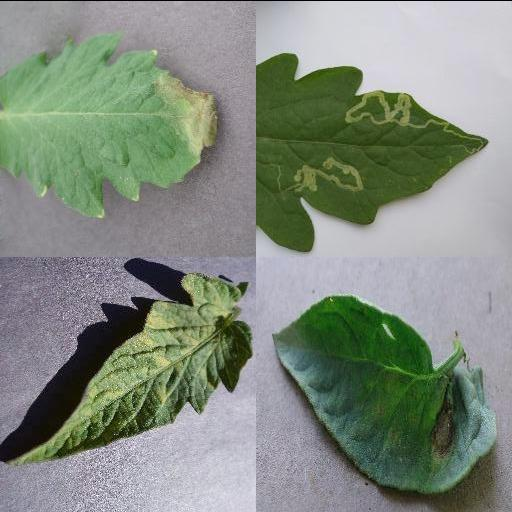Early Blight: (271, 296, 497, 494)
Late Blight: (0, 28, 225, 220)
Leaf Miner: (256, 52, 492, 252)
Leaf Mold: (8, 271, 254, 465)
